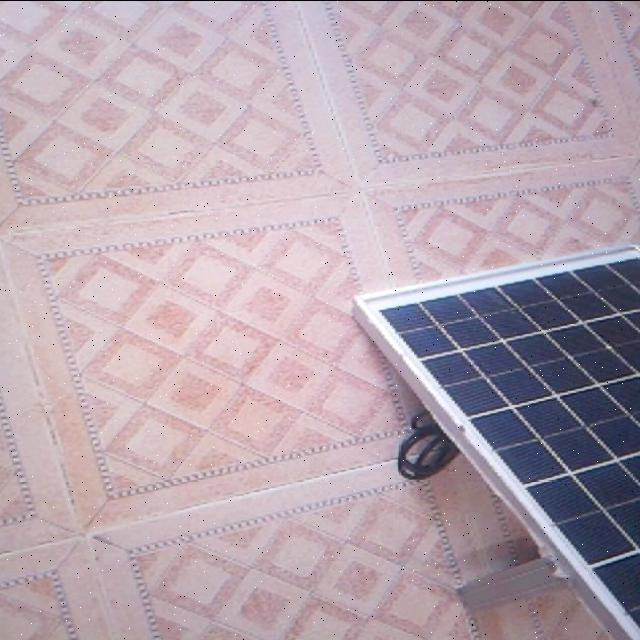Normal Solar Panel: (354, 246, 640, 640)
